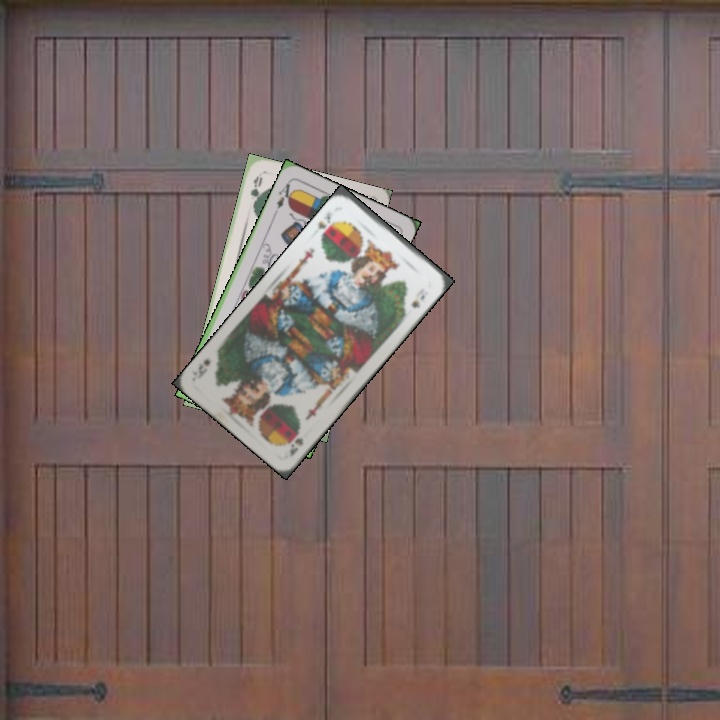EA: (271, 177, 297, 216)
GO: (246, 172, 265, 212)
SK: (314, 208, 340, 241), (285, 428, 306, 459)
